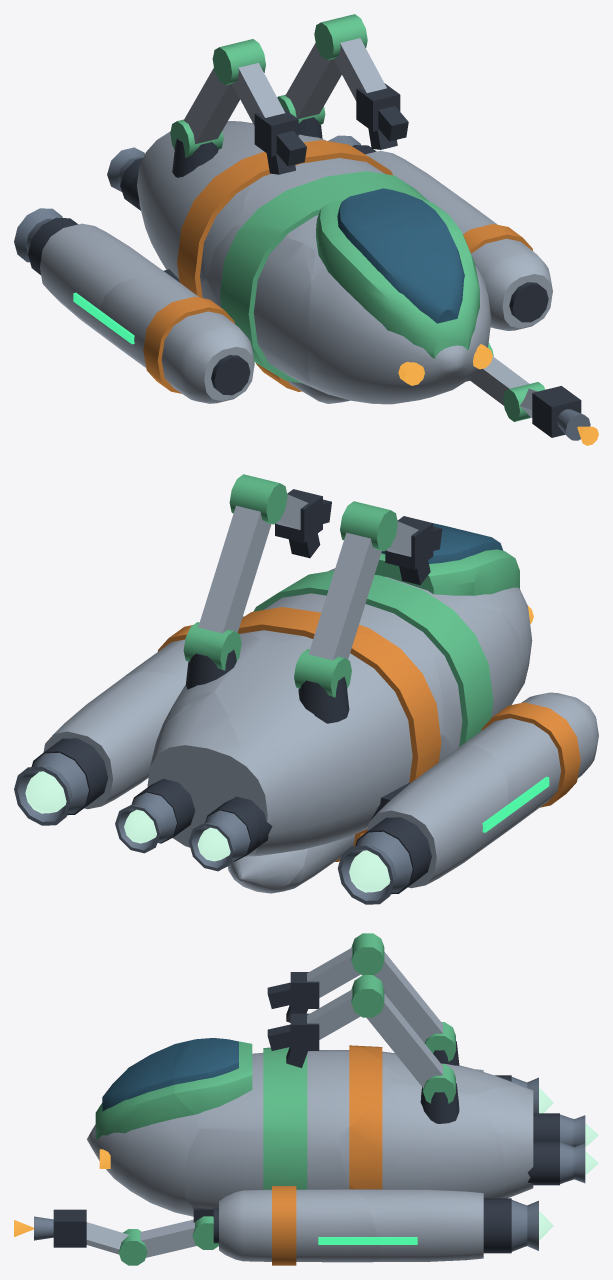
File: repair_drone_wreck.glb
3 renders of one model, top to bottom at view 1: azimuth 30°, elevation 25°; view 2: azimuth 150°, elevation 25°; view 3: azimuth 270°, elevation 25°, orthographic. The views are drawn at different scales.
Parts seen in each view (by area): view 1: repair_drone_wreck_03, repair_drone_wreck_00, repair_drone_wreck_01, repair_drone_wreck_02, repair_drone_wreck_05, repair_drone_wreck_07, repair_drone_wreck_04, repair_drone_wreck_08, repair_drone_wreck_06; view 2: repair_drone_wreck_02, repair_drone_wreck_00, repair_drone_wreck_01, repair_drone_wreck_04, repair_drone_wreck_08, repair_drone_wreck_03, repair_drone_wreck_06, repair_drone_wreck_05; view 3: repair_drone_wreck_00, repair_drone_wreck_04, repair_drone_wreck_05, repair_drone_wreck_03, repair_drone_wreck_08, repair_drone_wreck_02, repair_drone_wreck_07.
Part boxes in pixels (x1,y1,x2,y2): repair_drone_wreck_03: (308,226,492,404); repair_drone_wreck_00: (209,14,460,247); repair_drone_wreck_01: (95,222,315,403); repair_drone_wreck_02: (14,77,287,340); repair_drone_wreck_05: (437,198,552,382); repair_drone_wreck_07: (480,355,598,445); repair_drone_wreck_04: (280,83,462,205); repair_drone_wreck_08: (107,121,253,206); repair_drone_wreck_06: (193,277,349,403); repair_drone_wreck_02: (215,573,510,904); repair_drone_wreck_00: (209,474,477,653); repair_drone_wreck_01: (431,596,598,839); repair_drone_wreck_04: (14,592,262,889); repair_drone_wreck_08: (115,691,260,882); repair_drone_wreck_03: (433,523,533,695); repair_drone_wreck_06: (247,732,455,893); repair_drone_wreck_05: (125,616,243,681); repair_drone_wreck_00: (171,933,429,1139); repair_drone_wreck_04: (337,1050,553,1261); repair_drone_wreck_05: (173,1129,380,1265); repair_drone_wreck_03: (87,1039,200,1225); repair_drone_wreck_08: (472,1087,598,1198); repair_drone_wreck_02: (336,972,553,1113); repair_drone_wreck_07: (14,1162,178,1265).
Size of the model in its own units: 3.35 by 2.87 by 5.31.
